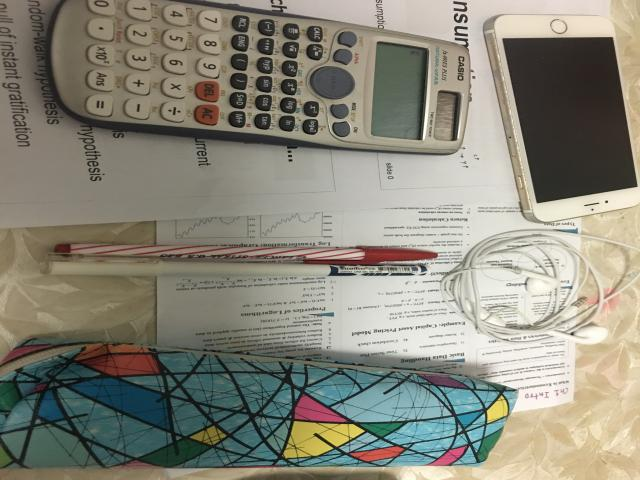Mobile phone: (483, 14, 640, 222)
Pen: (47, 253, 428, 277), (55, 244, 438, 264)
paper: (157, 200, 580, 477)
wire: (440, 229, 638, 344)
